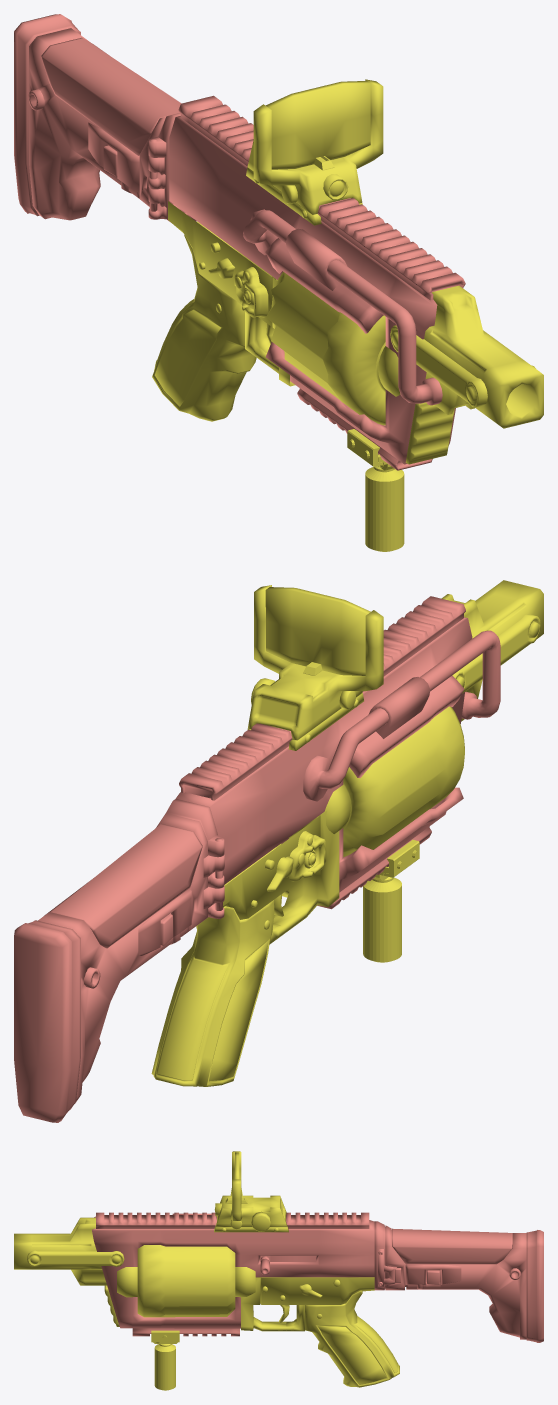
Rendered from Shotgun.fbx.
3 views of the same model, one above another, from view 1: azimuth 30°, elevation 25°; view 2: azimuth 150°, elevation 25°; view 3: azimuth 270°, elevation 25° (orthographic). The views are drawn at different scales.
Parts seen in each view (by area): view 1: Plane.005, Plane.004; view 2: Plane.005, Plane.004; view 3: Plane.005, Plane.004.
Part boxes in pixels (x1,y1,x2,y2): Plane.005: (14, 14, 465, 470); Plane.004: (152, 79, 543, 551); Plane.005: (14, 596, 500, 1122); Plane.004: (151, 580, 543, 1086); Plane.005: (92, 1212, 543, 1342); Plane.004: (14, 1151, 399, 1390).
Bounding box in the file's own units: 4.23 × 12.84 × 27.52.
